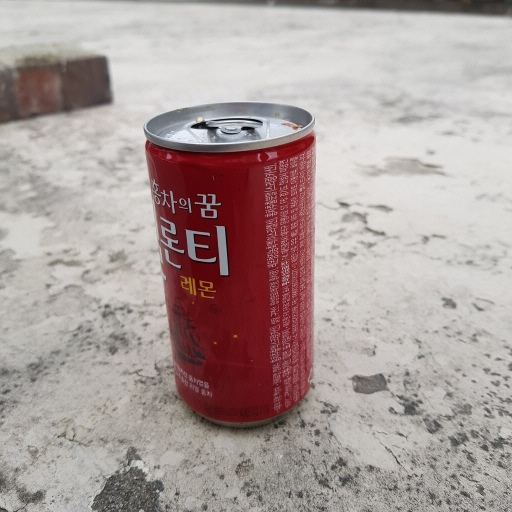Metal_0: (135, 98, 325, 432)
